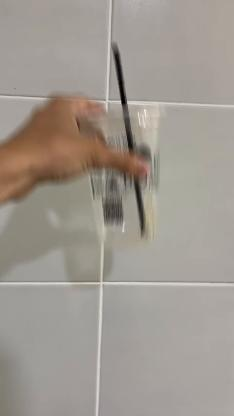Plastic Cup: (72, 101, 170, 251)
